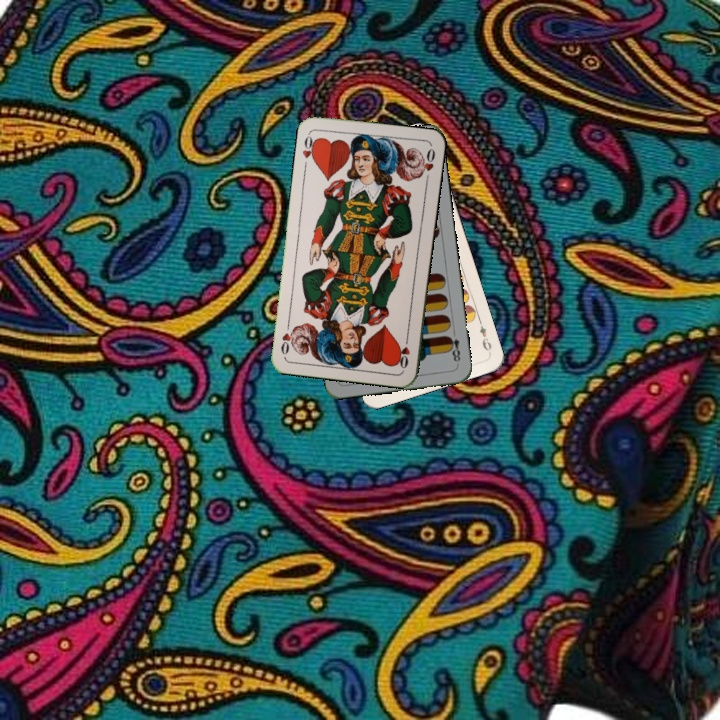E8: (444, 327, 463, 367)
E9: (475, 316, 494, 356)
HO: (298, 129, 320, 164), (394, 331, 412, 371)
